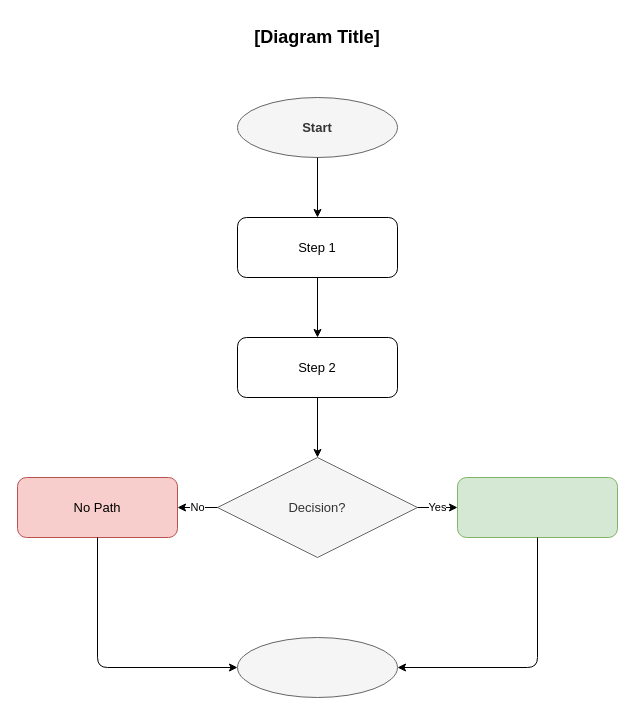
The diagram is 635 pixels wide and 715 high, and some of its shapes have lost their labels. The shapes that lost their labels are listed below. From the top down, each one's centre as x and y in pixels, then its label:
pixel 537 507: Yes Path
pixel 317 667: End
